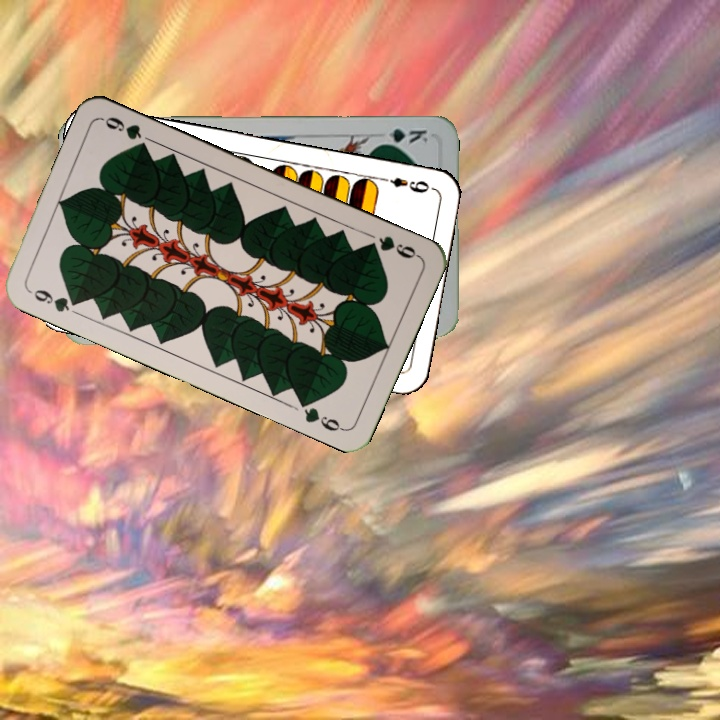E9: (376, 173, 432, 196)
G9: (362, 231, 422, 261), (29, 285, 85, 315)
GK: (374, 124, 431, 147)
